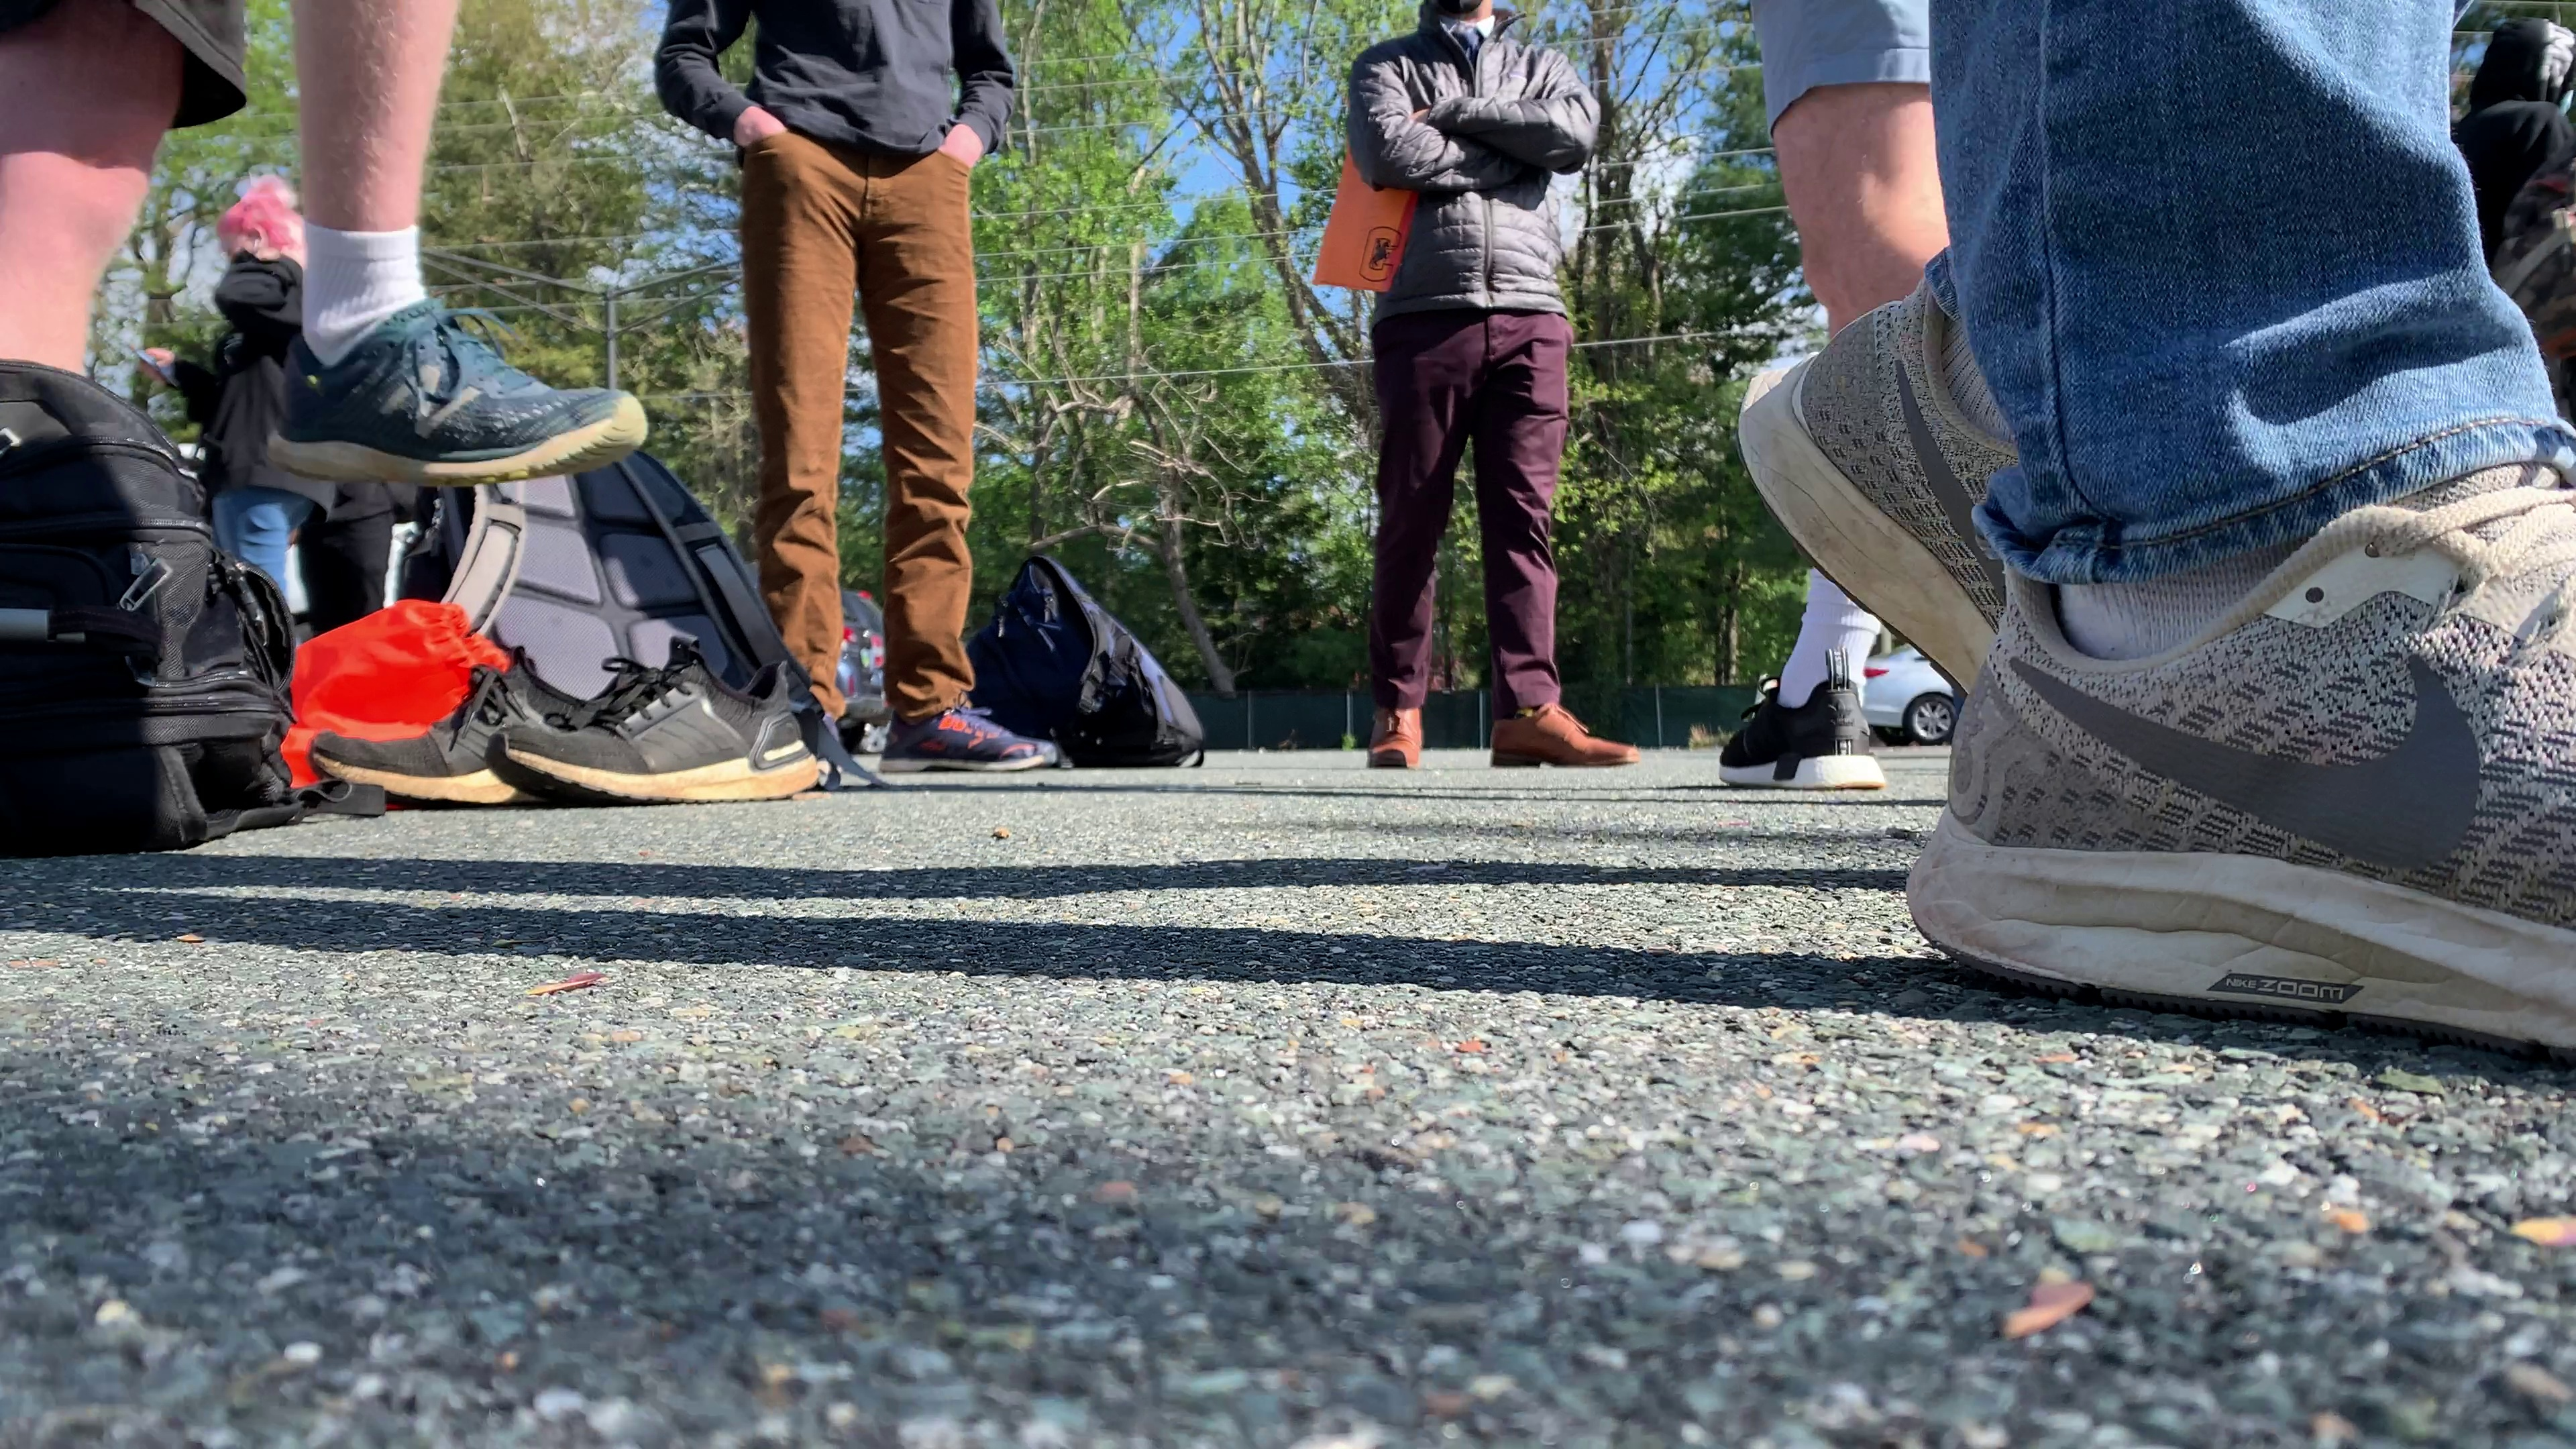shoe: (1907, 464, 2576, 1058), (269, 297, 649, 483), (308, 648, 669, 807), (483, 648, 819, 801), (1718, 678, 1884, 789), (876, 709, 1060, 771), (1486, 702, 1638, 766), (1366, 699, 1426, 766)
